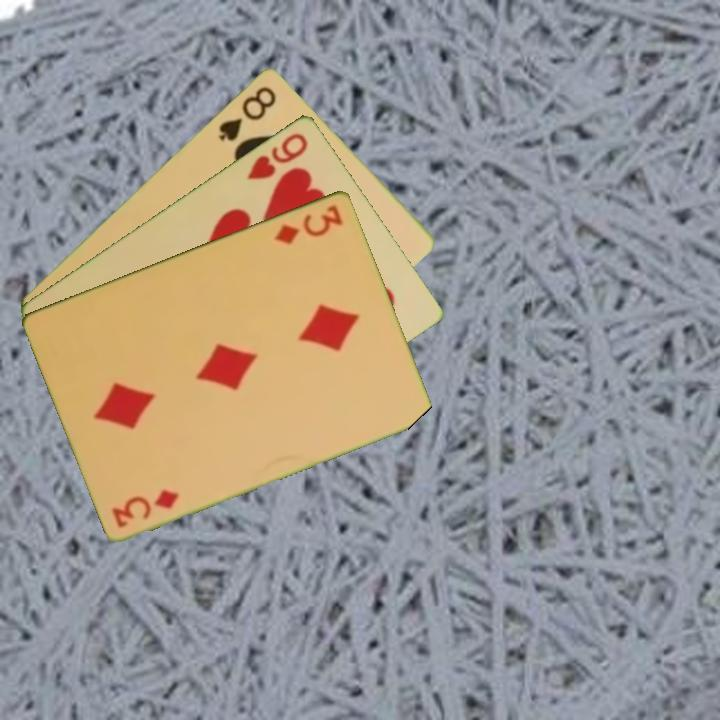3d: (270, 201, 346, 247), (108, 485, 183, 530)
8s: (214, 82, 279, 144)
9h: (243, 128, 311, 183)
